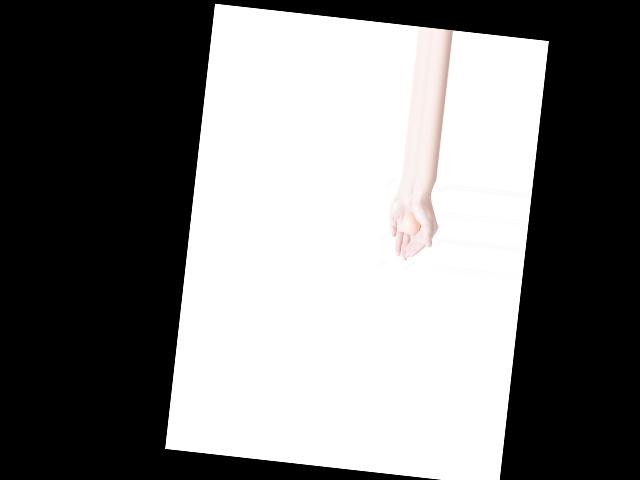egg: (402, 213, 421, 236)
